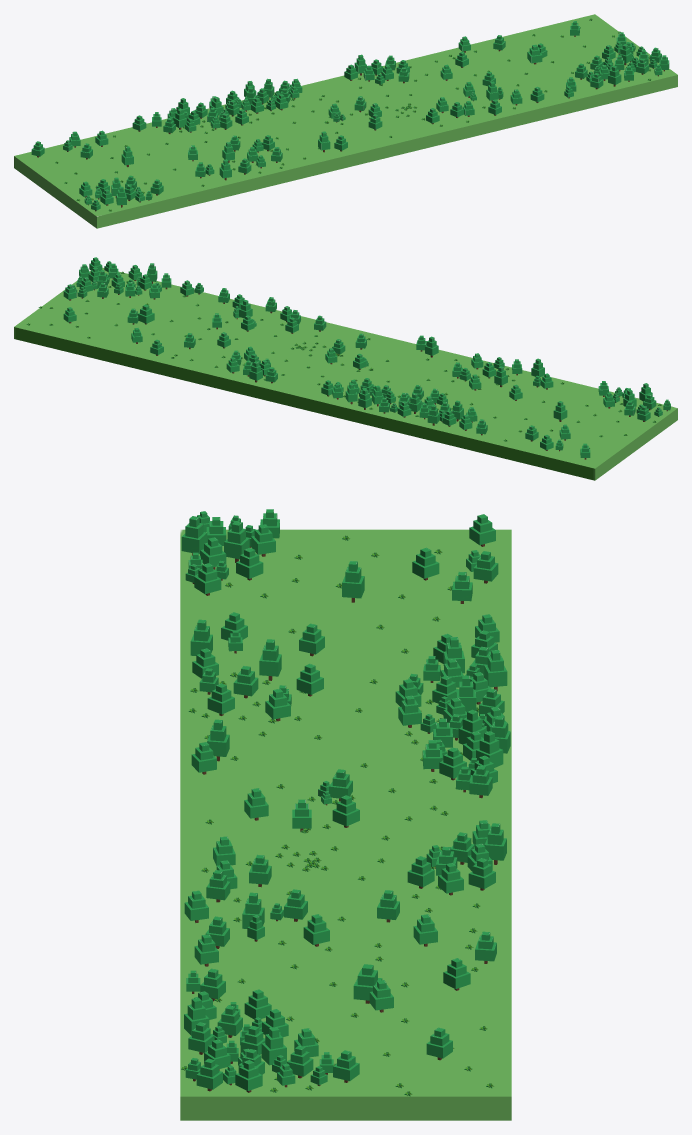
File: board_green.obj
3 views of the same model, one above another, from view 1: azimuth 30°, elevation 25°; view 2: azimuth 150°, elevation 25°; view 3: azimuth 270°, elevation 25° (orthographic). The views are drawn at different scales.
Parts seen in each view (by area): view 1: grpund_Cube.002, wood.001_Cube.006, grass.003_Cube.007; view 2: grpund_Cube.002, wood.001_Cube.006, grass.003_Cube.007; view 3: grpund_Cube.002, wood.001_Cube.006, grass.003_Cube.007.
Boxes of the visible parts, x1,y1,x2,y2 form: grpund_Cube.002: [14, 14, 677, 228]; wood.001_Cube.006: [31, 21, 669, 211]; grass.003_Cube.007: [55, 18, 651, 211]; grpund_Cube.002: [14, 267, 677, 480]; wood.001_Cube.006: [63, 257, 670, 459]; grass.003_Cube.007: [26, 271, 661, 448]; grpund_Cube.002: [180, 529, 511, 1120]; wood.001_Cube.006: [181, 509, 510, 1092]; grass.003_Cube.007: [181, 535, 493, 1096].
Bounding box in the file's own units: 127 × 6.57 × 31.22.
12 materials, 12 textured.
